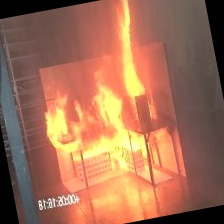fire: (19, 0, 189, 193)
